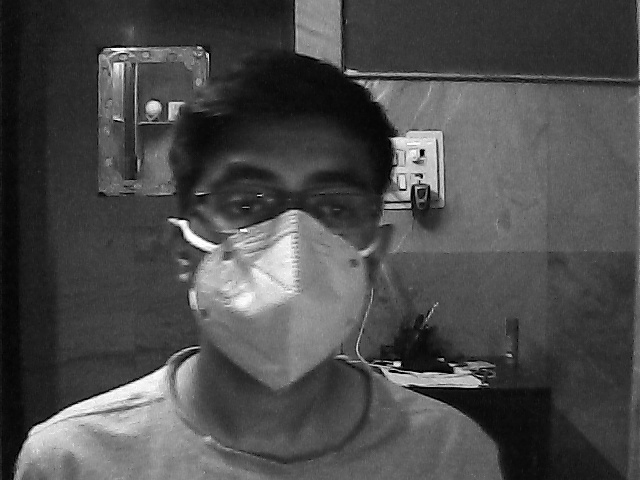mask: (182, 144, 384, 394)
